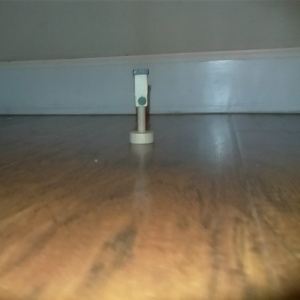traffic light green: (128, 65, 154, 146)
